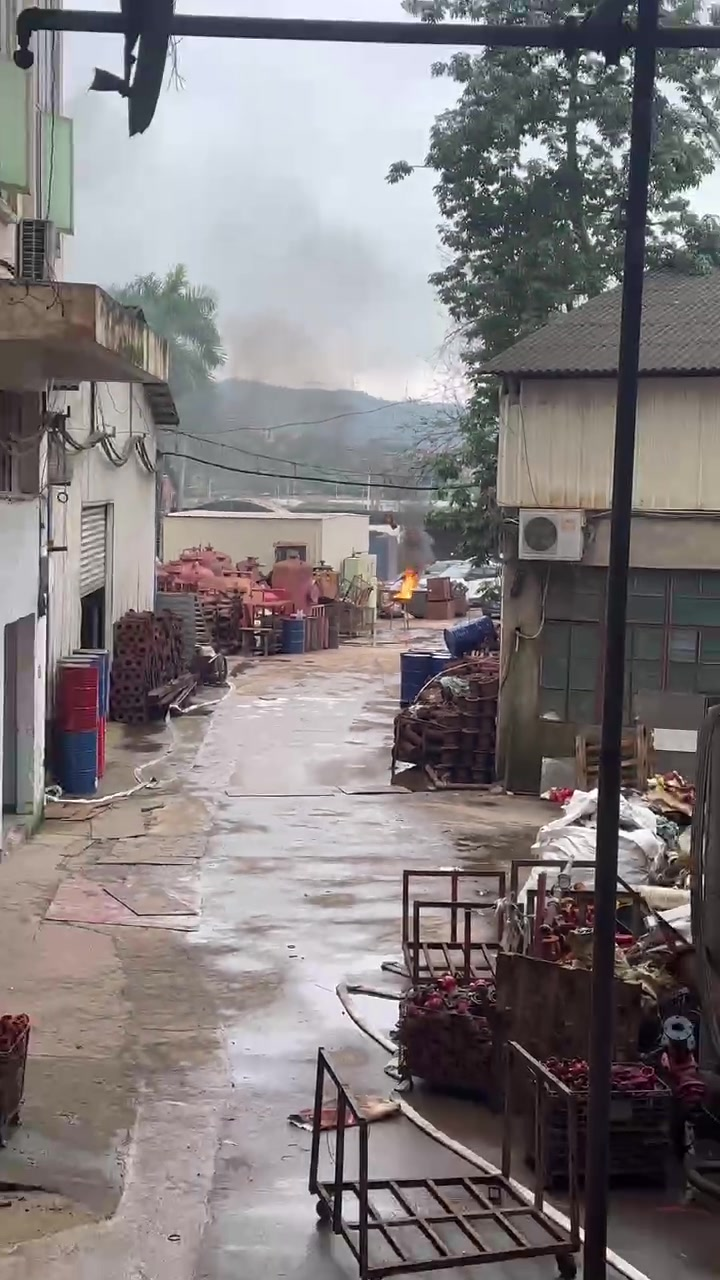fire: (393, 568, 417, 598)
